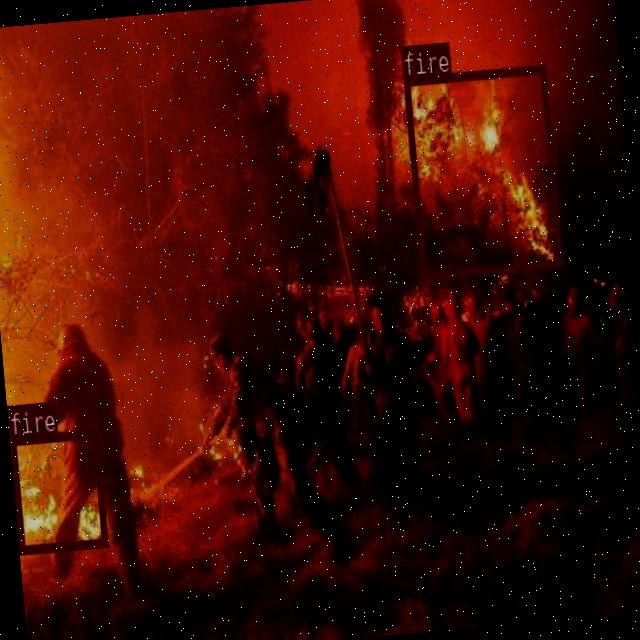fire: (402, 63, 561, 277), (9, 426, 107, 553)
